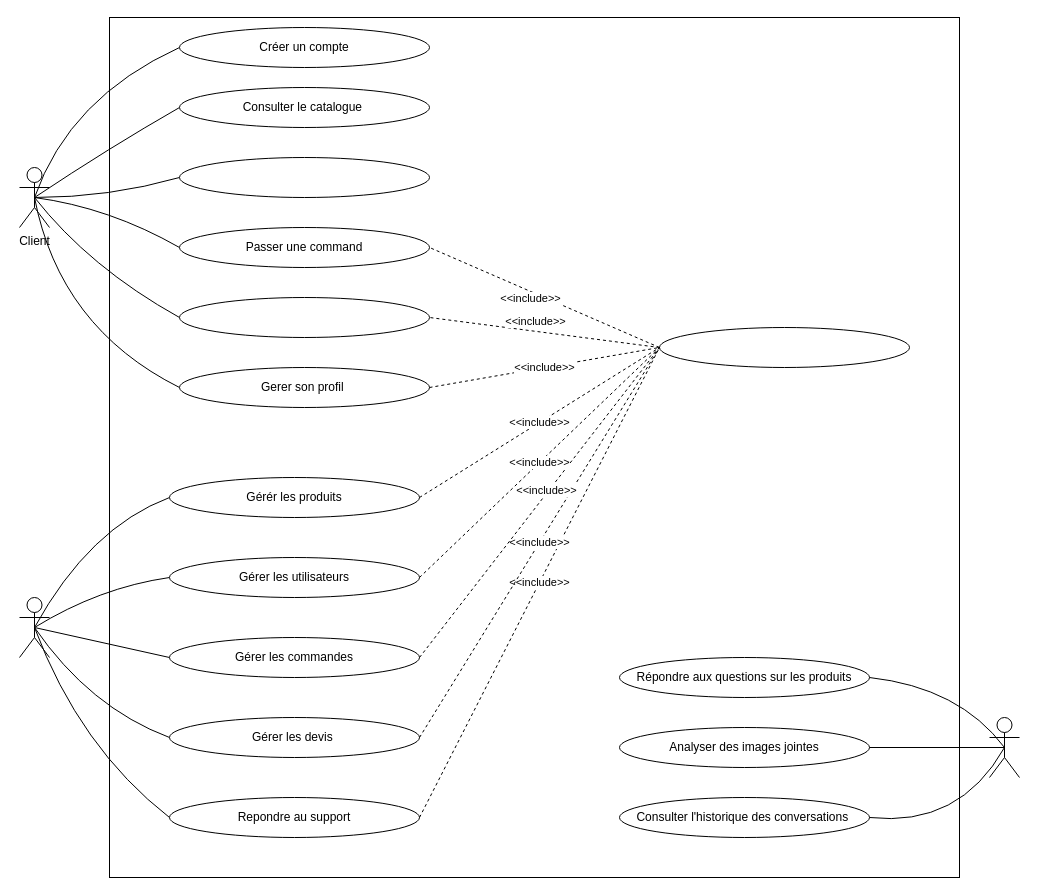
The diagram is 1053 pixels wide and 895 high, and some of its shapes have lost their labels. The shapes that lost their labels are listed below. From the top down, each one's centre as x and y in pixels, then its label:
the point at 304,177: Visualiser un produit
the point at 304,317: Demander un devis
the point at 784,347: S'authetifier
the point at 34,627: Admin
the point at 1004,747: Assistant IA
